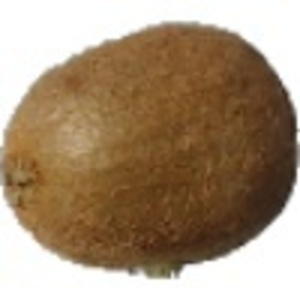kiwi: (1, 21, 300, 282)
